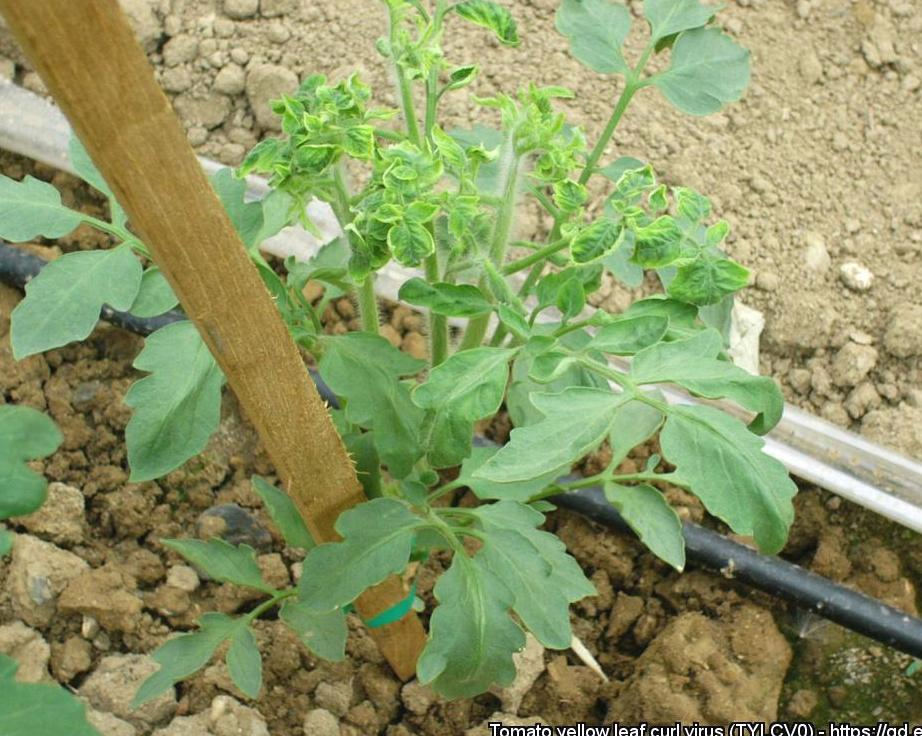Tomato leaf: (661, 401, 792, 566), (488, 364, 657, 477), (310, 320, 432, 467), (413, 546, 526, 703), (117, 316, 219, 478), (7, 237, 131, 362), (294, 496, 418, 619), (473, 526, 587, 649), (652, 25, 754, 121), (0, 155, 92, 260), (554, 0, 648, 93), (601, 475, 689, 569), (159, 528, 279, 592), (582, 310, 670, 360)
